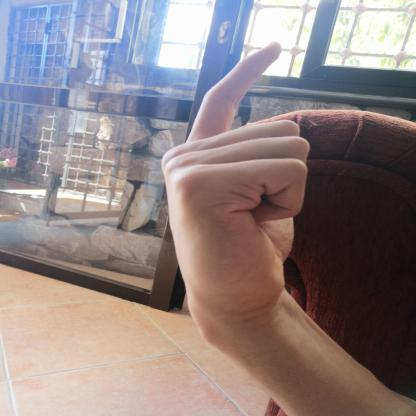RAA: (148, 30, 323, 347)
